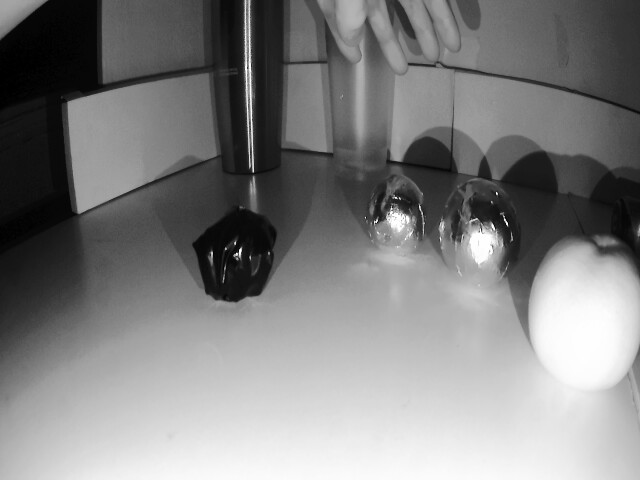black: (437, 173, 520, 292), (369, 171, 424, 258)
silver: (195, 206, 277, 300)
